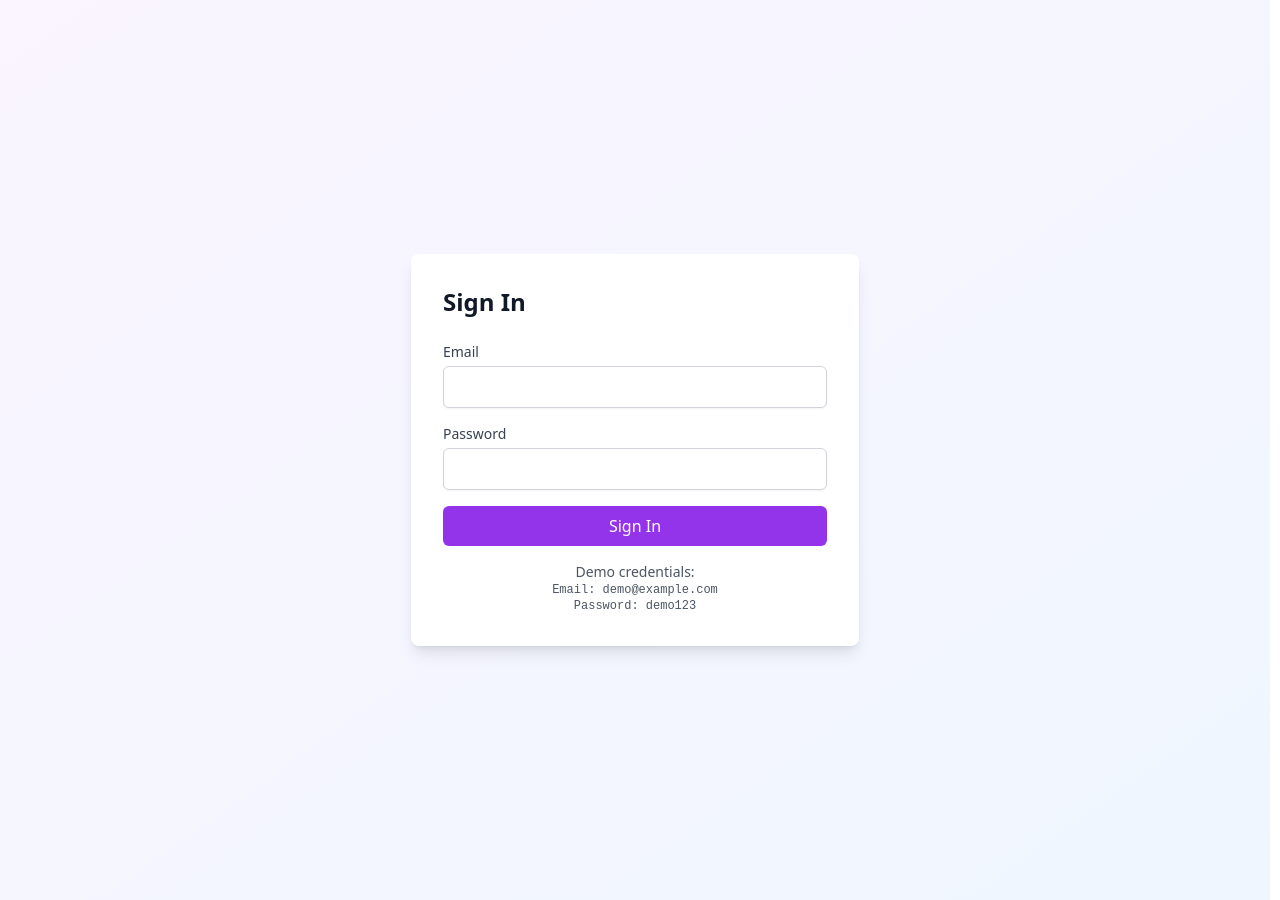
Scenario: LoginForm E2E Integration Tests › Complete Authentication Security Flow › should handle basic rate limiting behavior
Type "ratelimit@example.com" into the field labelled "Email". click: (635, 387)
box: [443, 366, 827, 408]
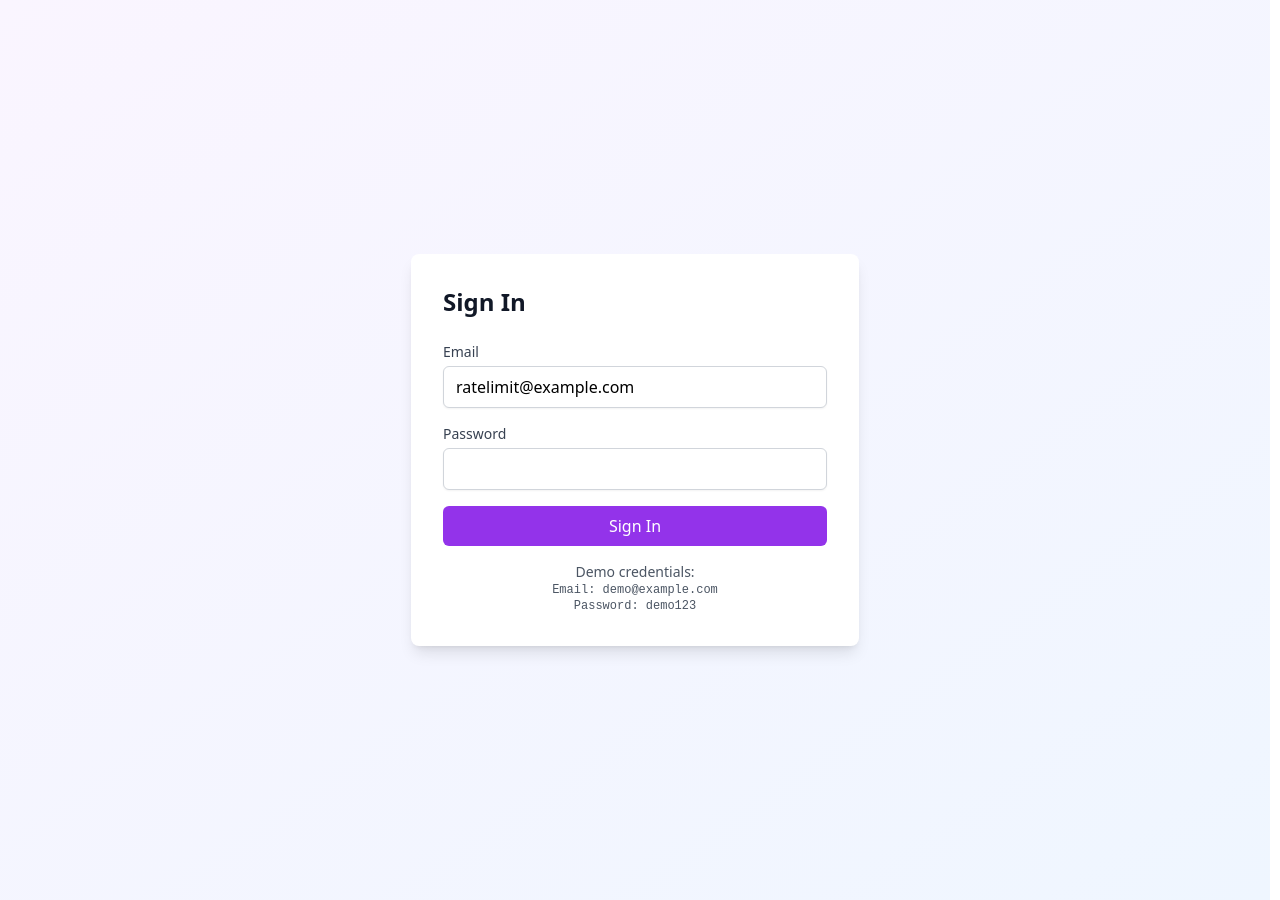
Type "wrong1" into the password field labelled "Password". click: (635, 469)
box: [443, 448, 827, 490]
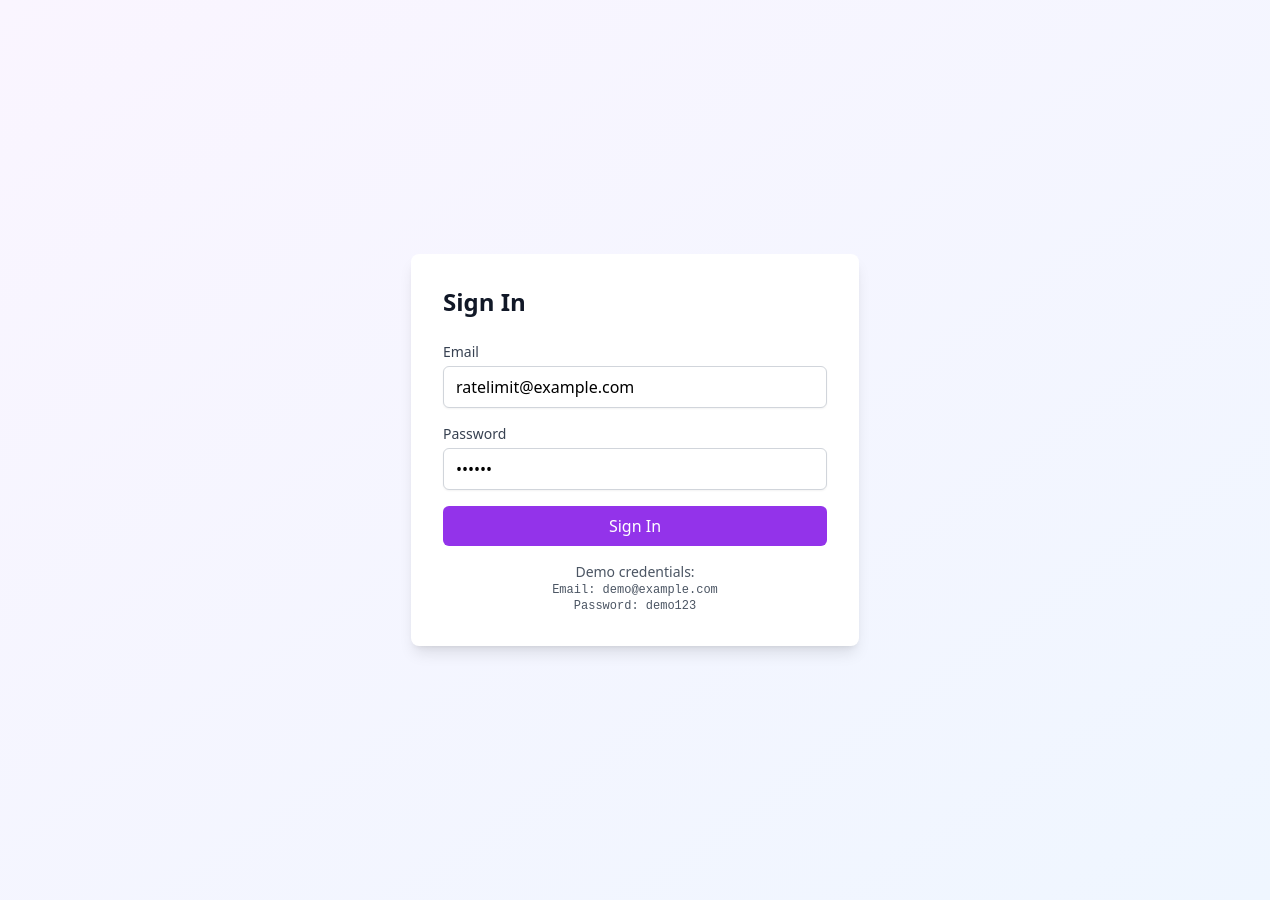
Click the button "Sign In". click: (635, 526)
box: [443, 506, 827, 546]
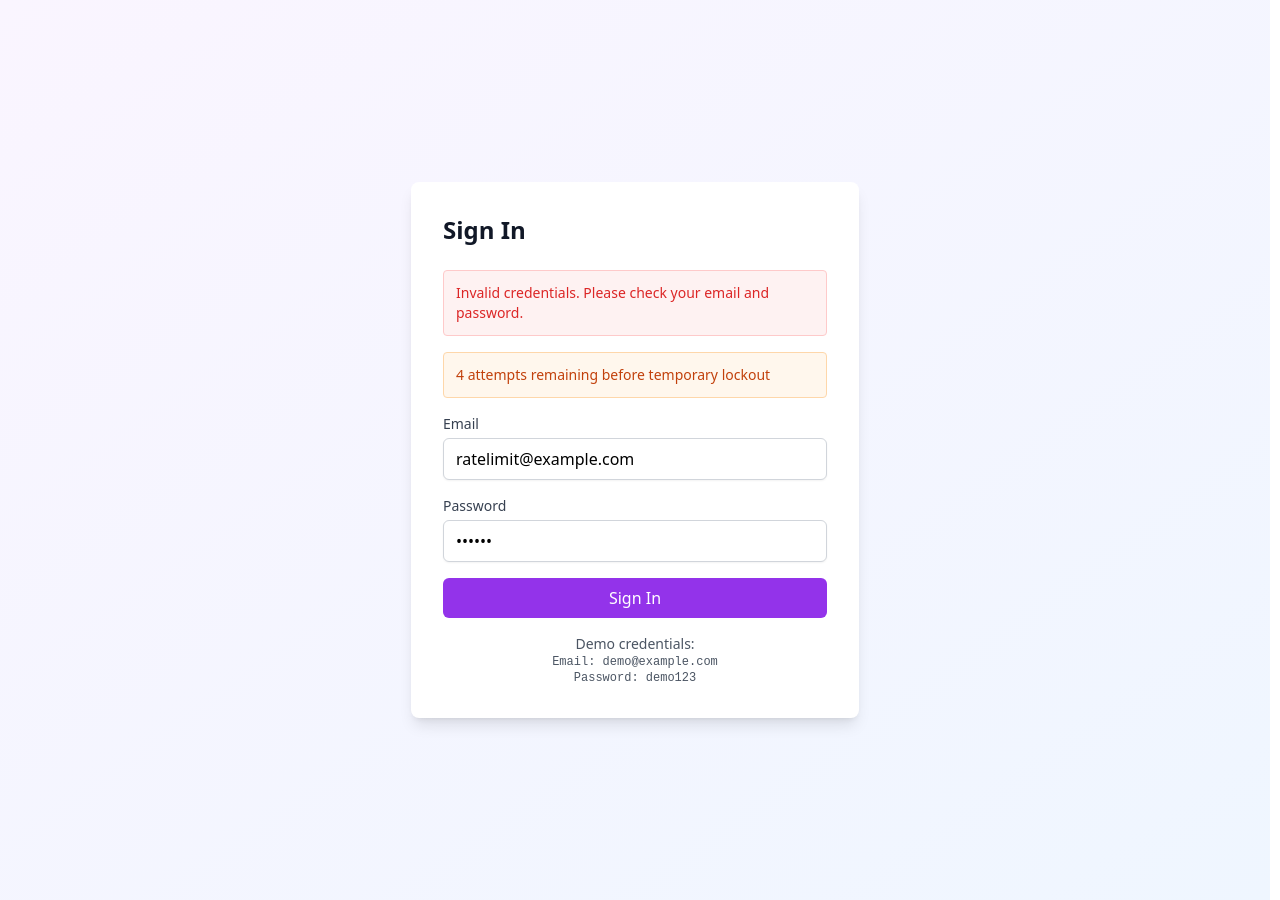
expect the button "Sign In" is enabled: met, box [443, 578, 827, 618]
expect the text "Invalid credentials. Please check your email and password." is shown: met, box [443, 270, 827, 336]
expect the text "4 attempts remaining before temporary lockout" is shown: met, box [443, 352, 827, 398]
